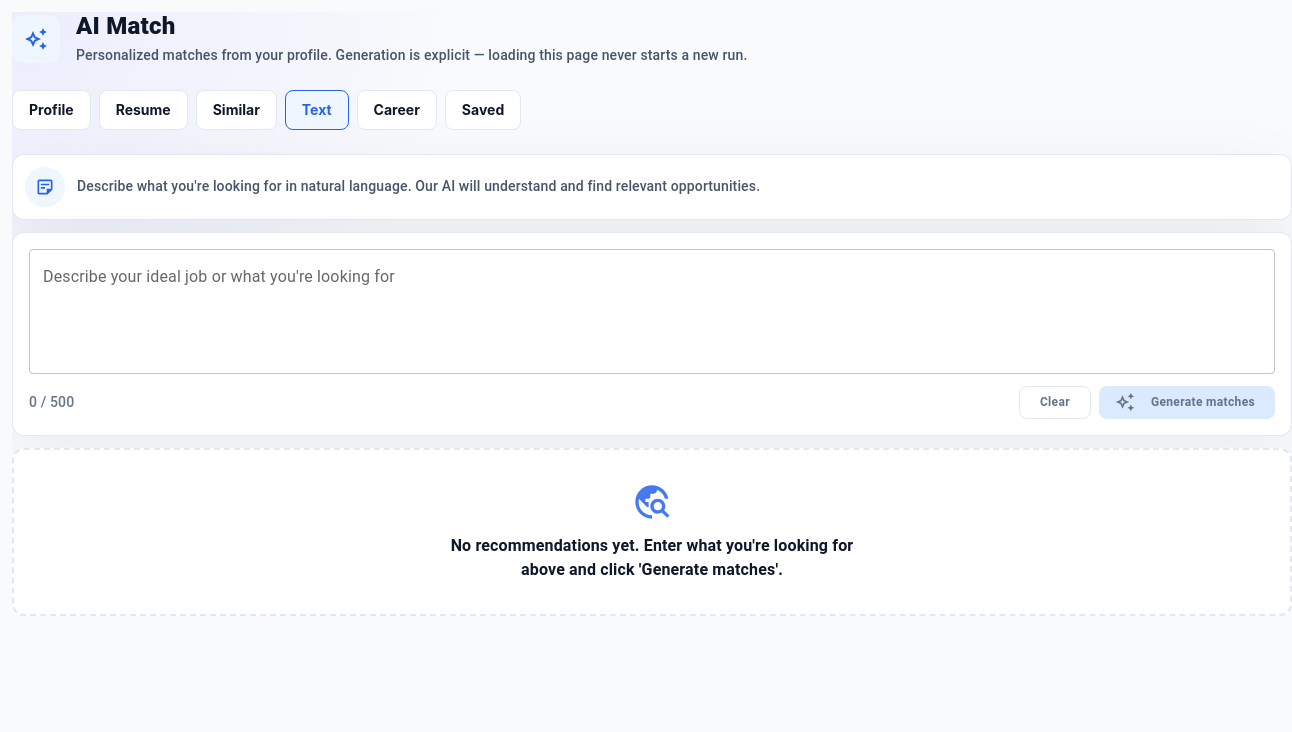
Test: AiMatchPage › clears the text field with the Clear button
Type "Some target text" into the text box labelled "Describe your ideal job or what you're looking for".
click(652, 311); type("Some target text")  # box [43,265,1261,357]
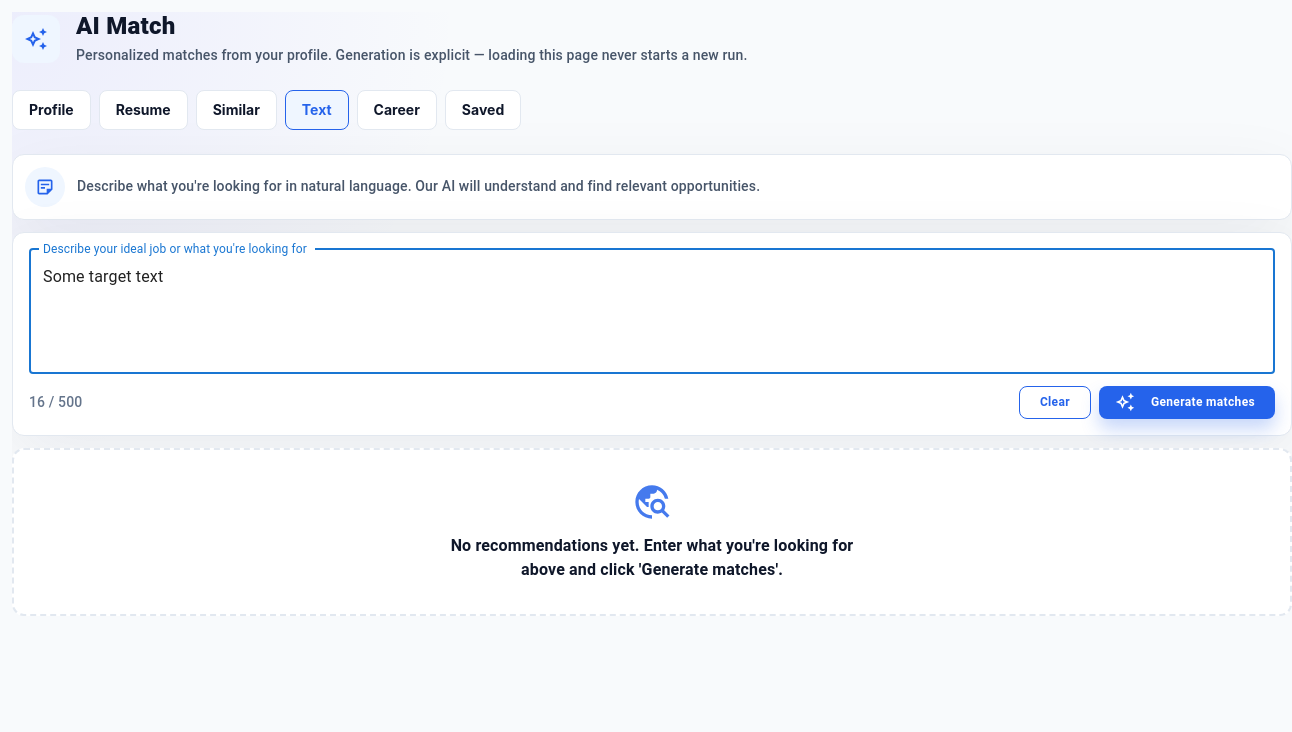
Click the button "Clear".
click(1055, 402)  # box [1019,386,1091,419]
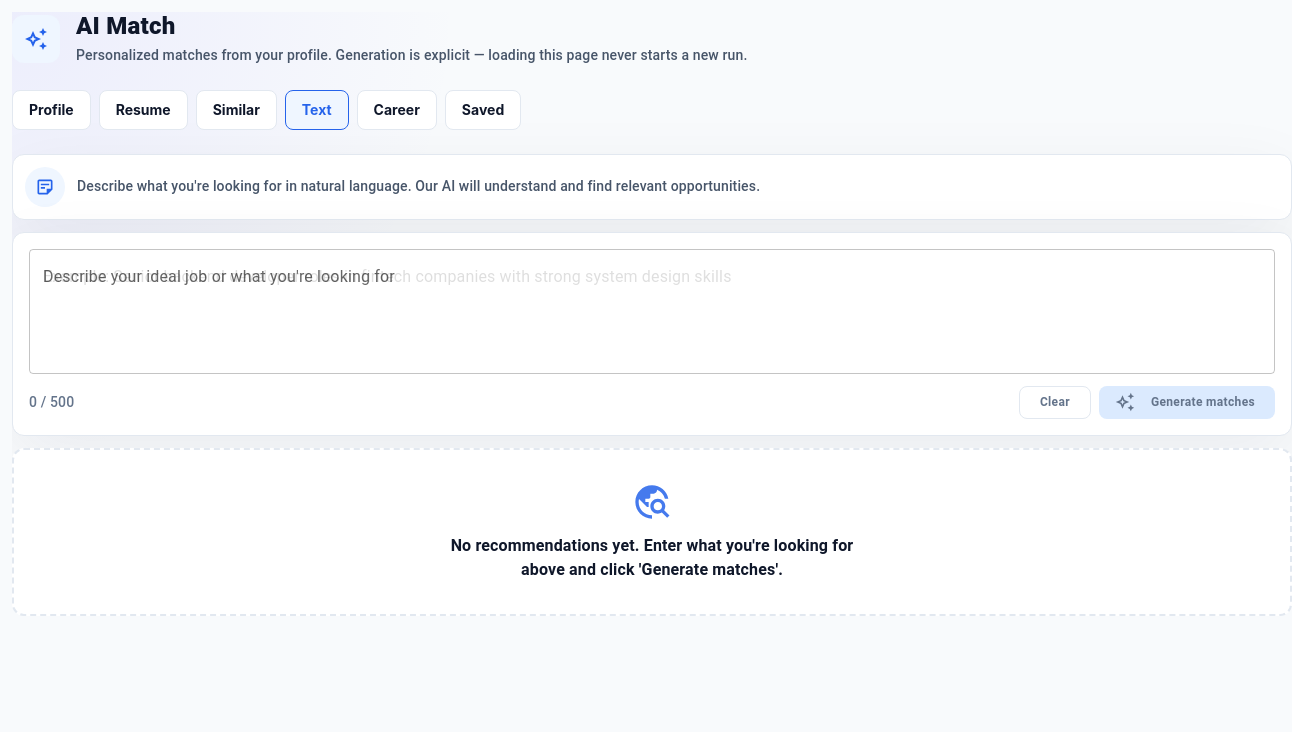
Check: the text box labelled "Describe your ideal job or what you're looking for" is empty, box [43,265,1261,357]
